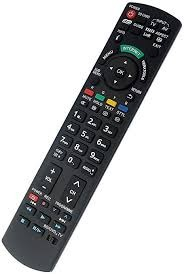remote control: (2, 0, 182, 274)
